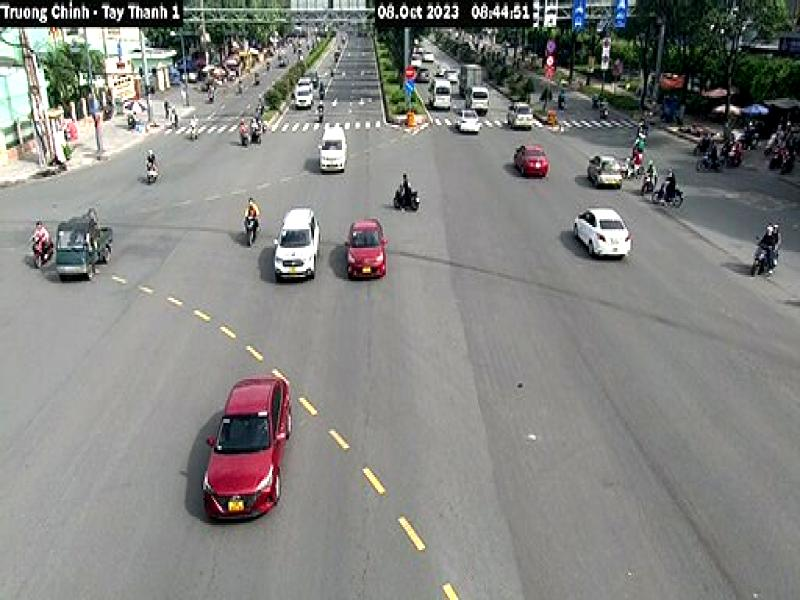car: (197, 370, 295, 517), (273, 197, 318, 293), (572, 203, 634, 270), (346, 215, 390, 283), (584, 149, 623, 197), (512, 140, 552, 184), (318, 121, 349, 175)
truck: (52, 206, 115, 282)
